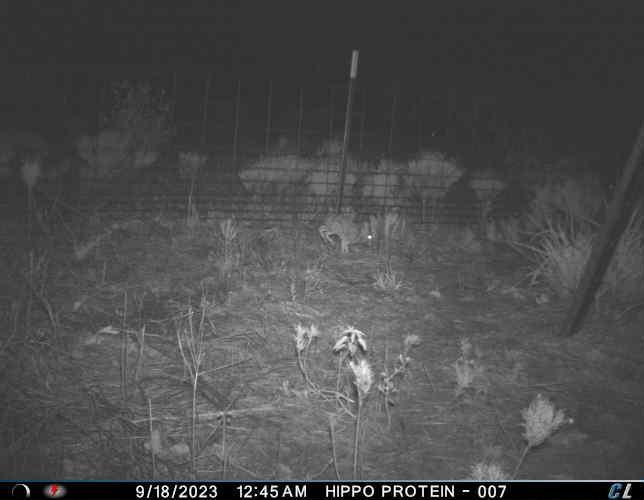Rabbit: (318, 208, 375, 255)
